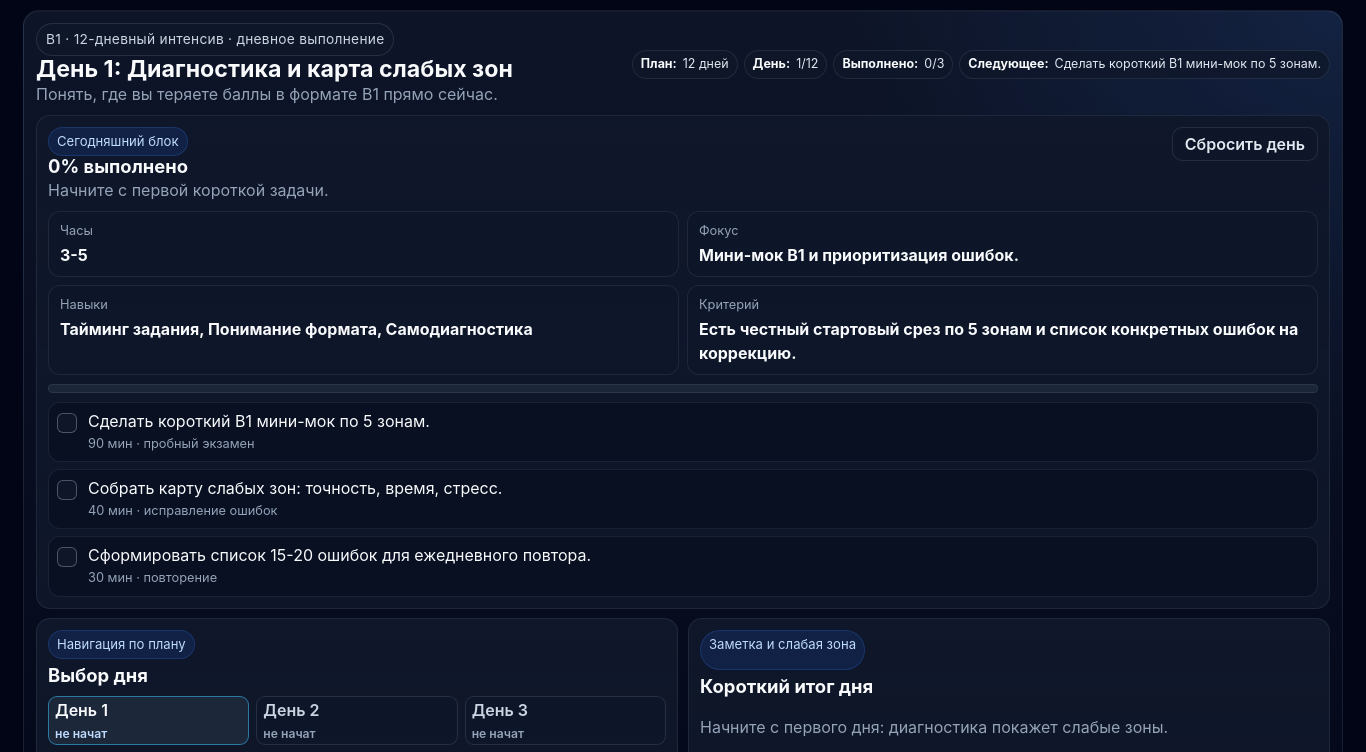
Test: IntensivePlanScreen › lets the user toggle a checklist task in the current day
The width and height of the screenshot is (1366, 752).
Click the checkbox labelled "Сделать короткий B1 мини-мок по 5 зонам." at (67, 423), box x1=57 y1=413 x2=77 y2=433
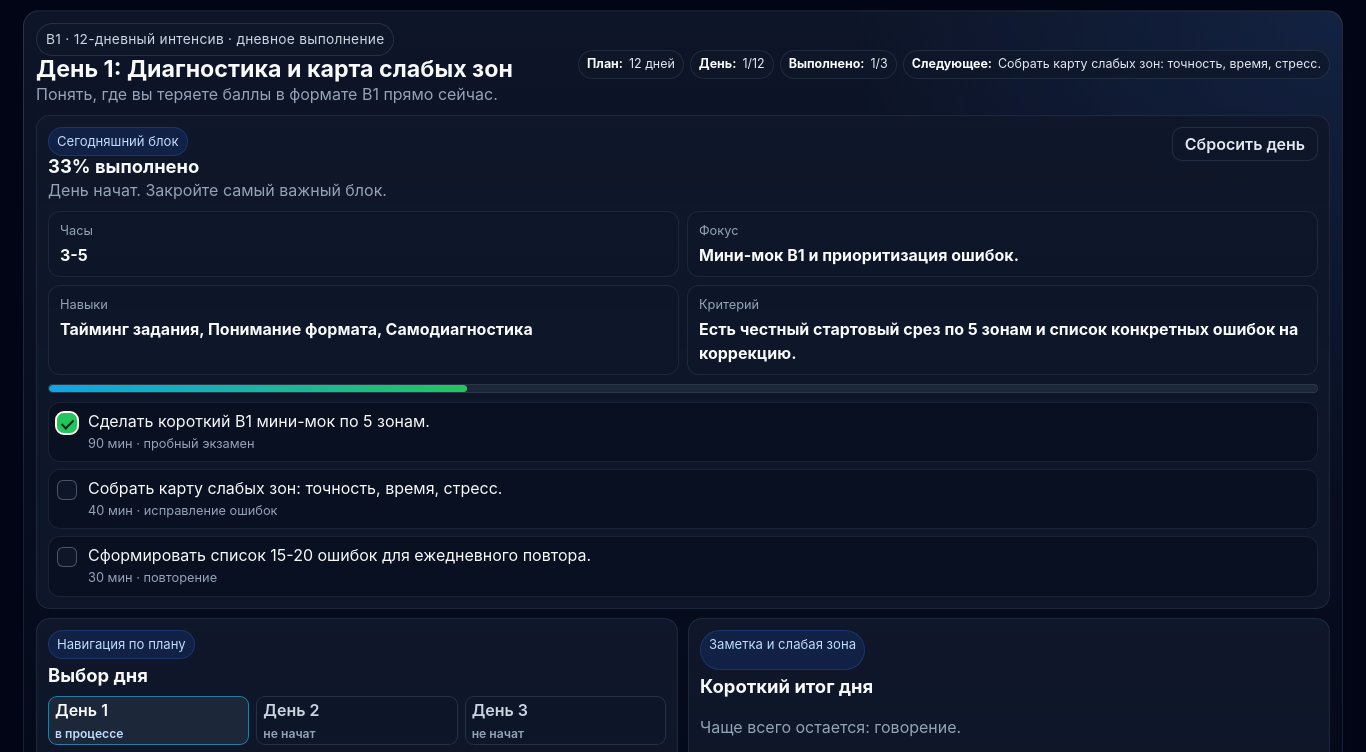
Expected: the checkbox labelled "Сделать короткий B1 мини-мок по 5 зонам." is checked, x1=57 y1=413 x2=77 y2=433
Expected: the heading "33% выполнено" is shown, x1=48 y1=155 x2=199 y2=177
